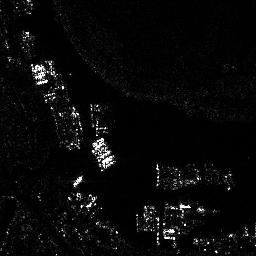ship: (72, 174, 84, 188)
